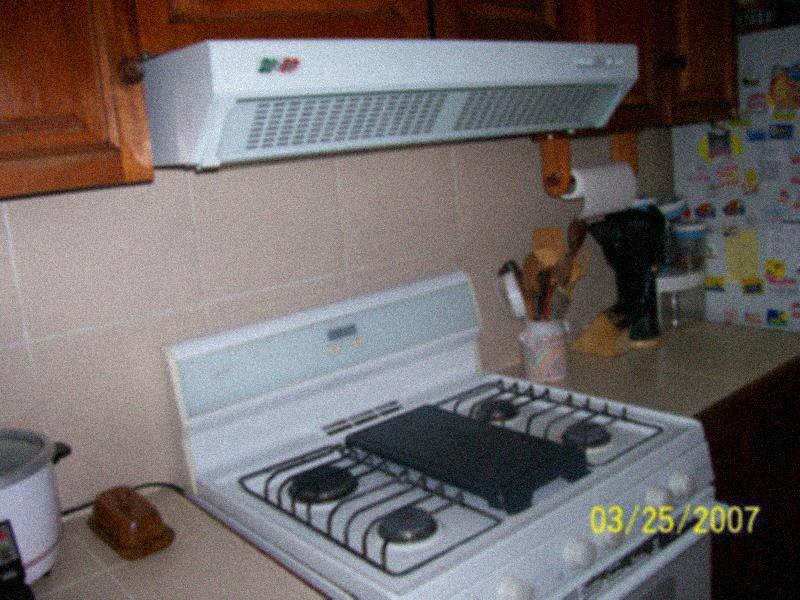Electrodomestico: (154, 325, 727, 590)
